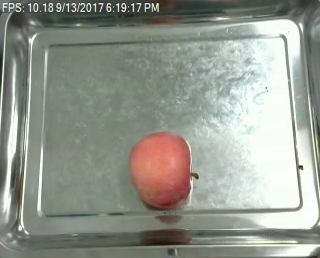Apple: (127, 129, 192, 212)
